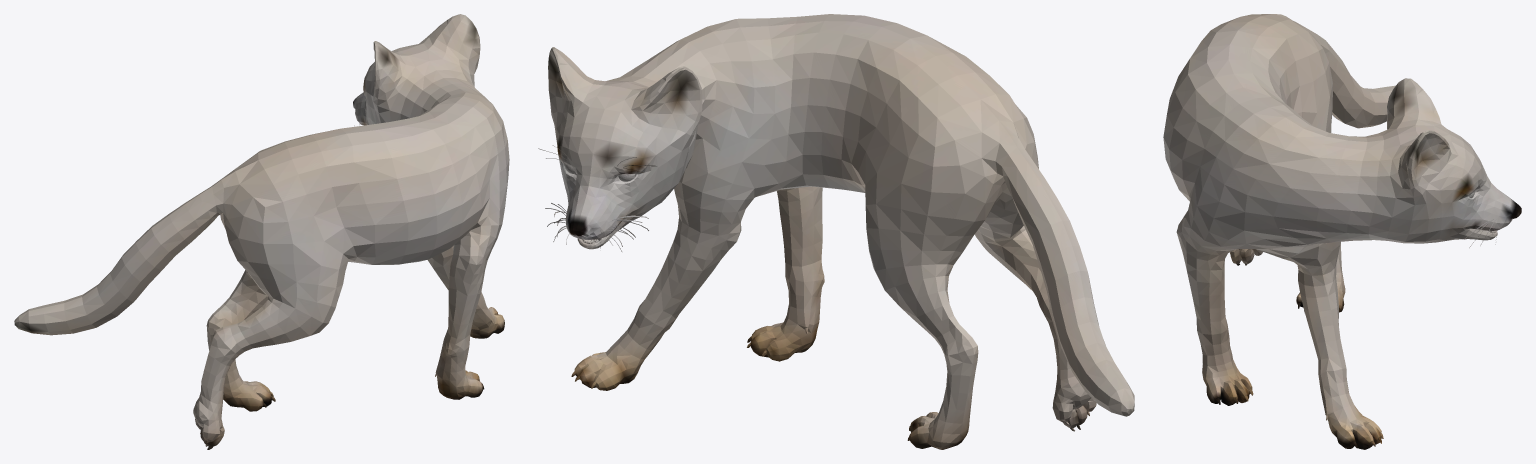
The model's file is arcticfox.pred.glb.
3 renders of one model, left to right at view 1: azimuth 30°, elevation 25°; view 2: azimuth 150°, elevation 25°; view 3: azimuth 270°, elevation 25°, orthographic. The views are drawn at different scales.
Parts seen in each view (by area): view 1: root; view 2: root; view 3: root.
Part boxes in pixels (bbox=[...]): root: bbox=[14, 14, 509, 449]; root: bbox=[538, 14, 1134, 449]; root: bbox=[1163, 14, 1521, 449].
Bounding box in the file's own units: 0.5792 × 0.3463 × 0.3514.
Materials: 1 (1 with a texture image).
